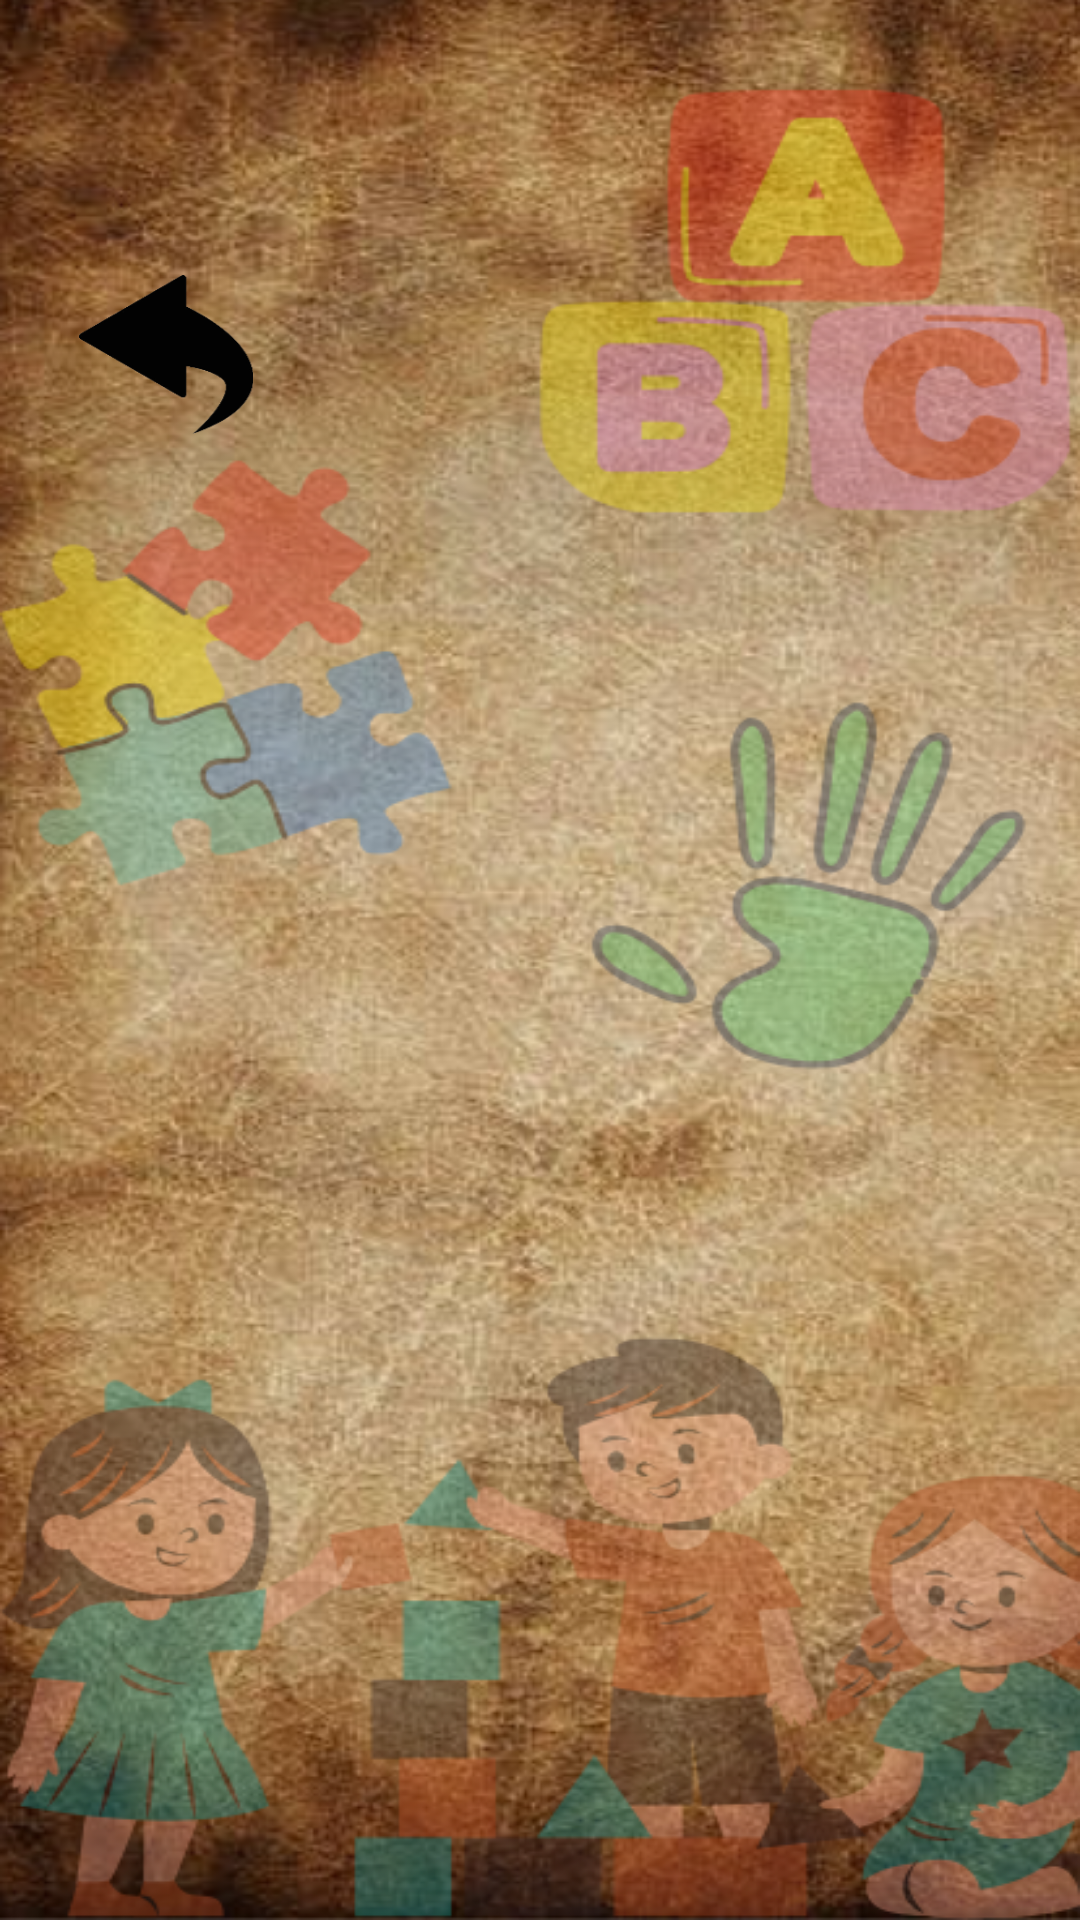

Point at icon controls on the screen. Image size 1080px×1920px, points as point (x, y).
back: point (166, 354)
